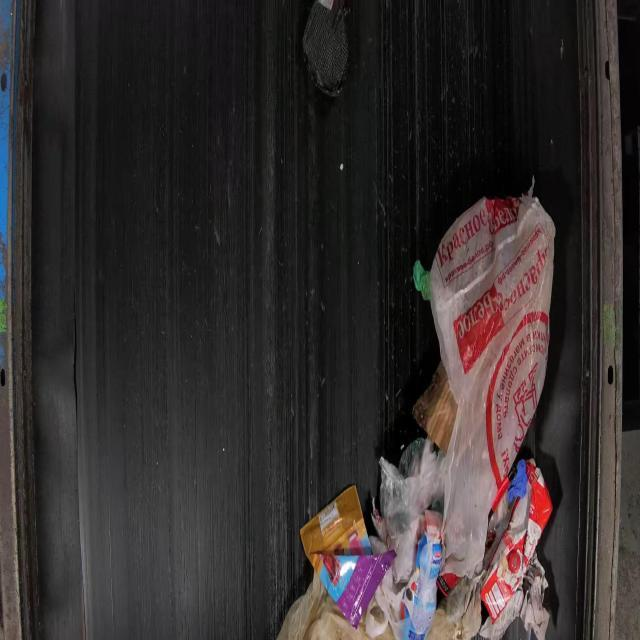cups: (316, 547, 396, 628)
organic-waste: (277, 178, 557, 638)
